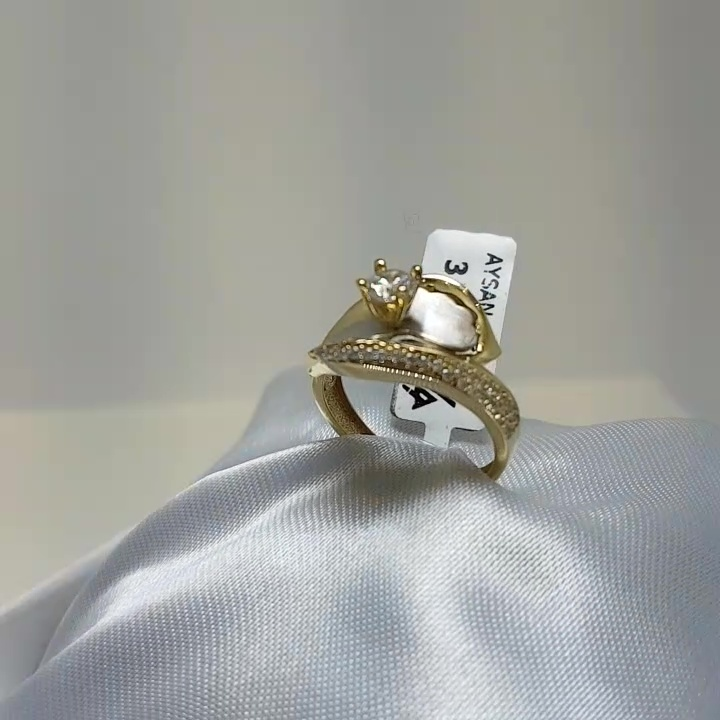Ring 6: (295, 258, 531, 478)
